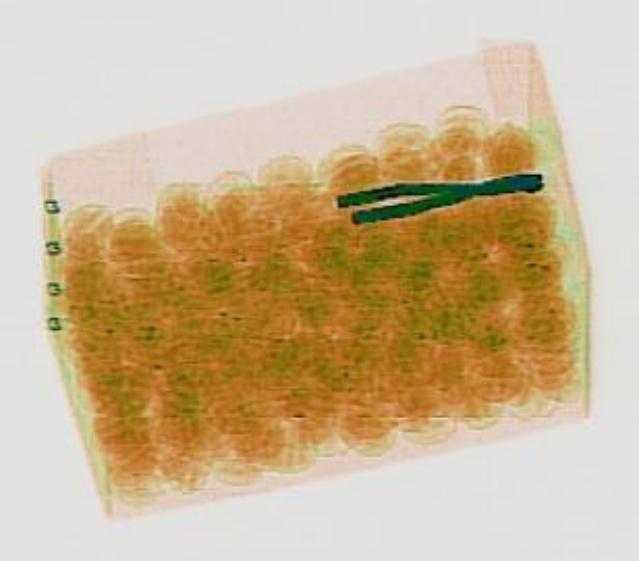Pliers: (328, 157, 546, 222)
